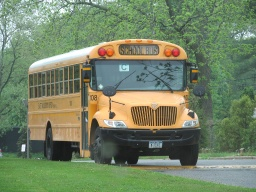bus: (24, 36, 204, 172)
